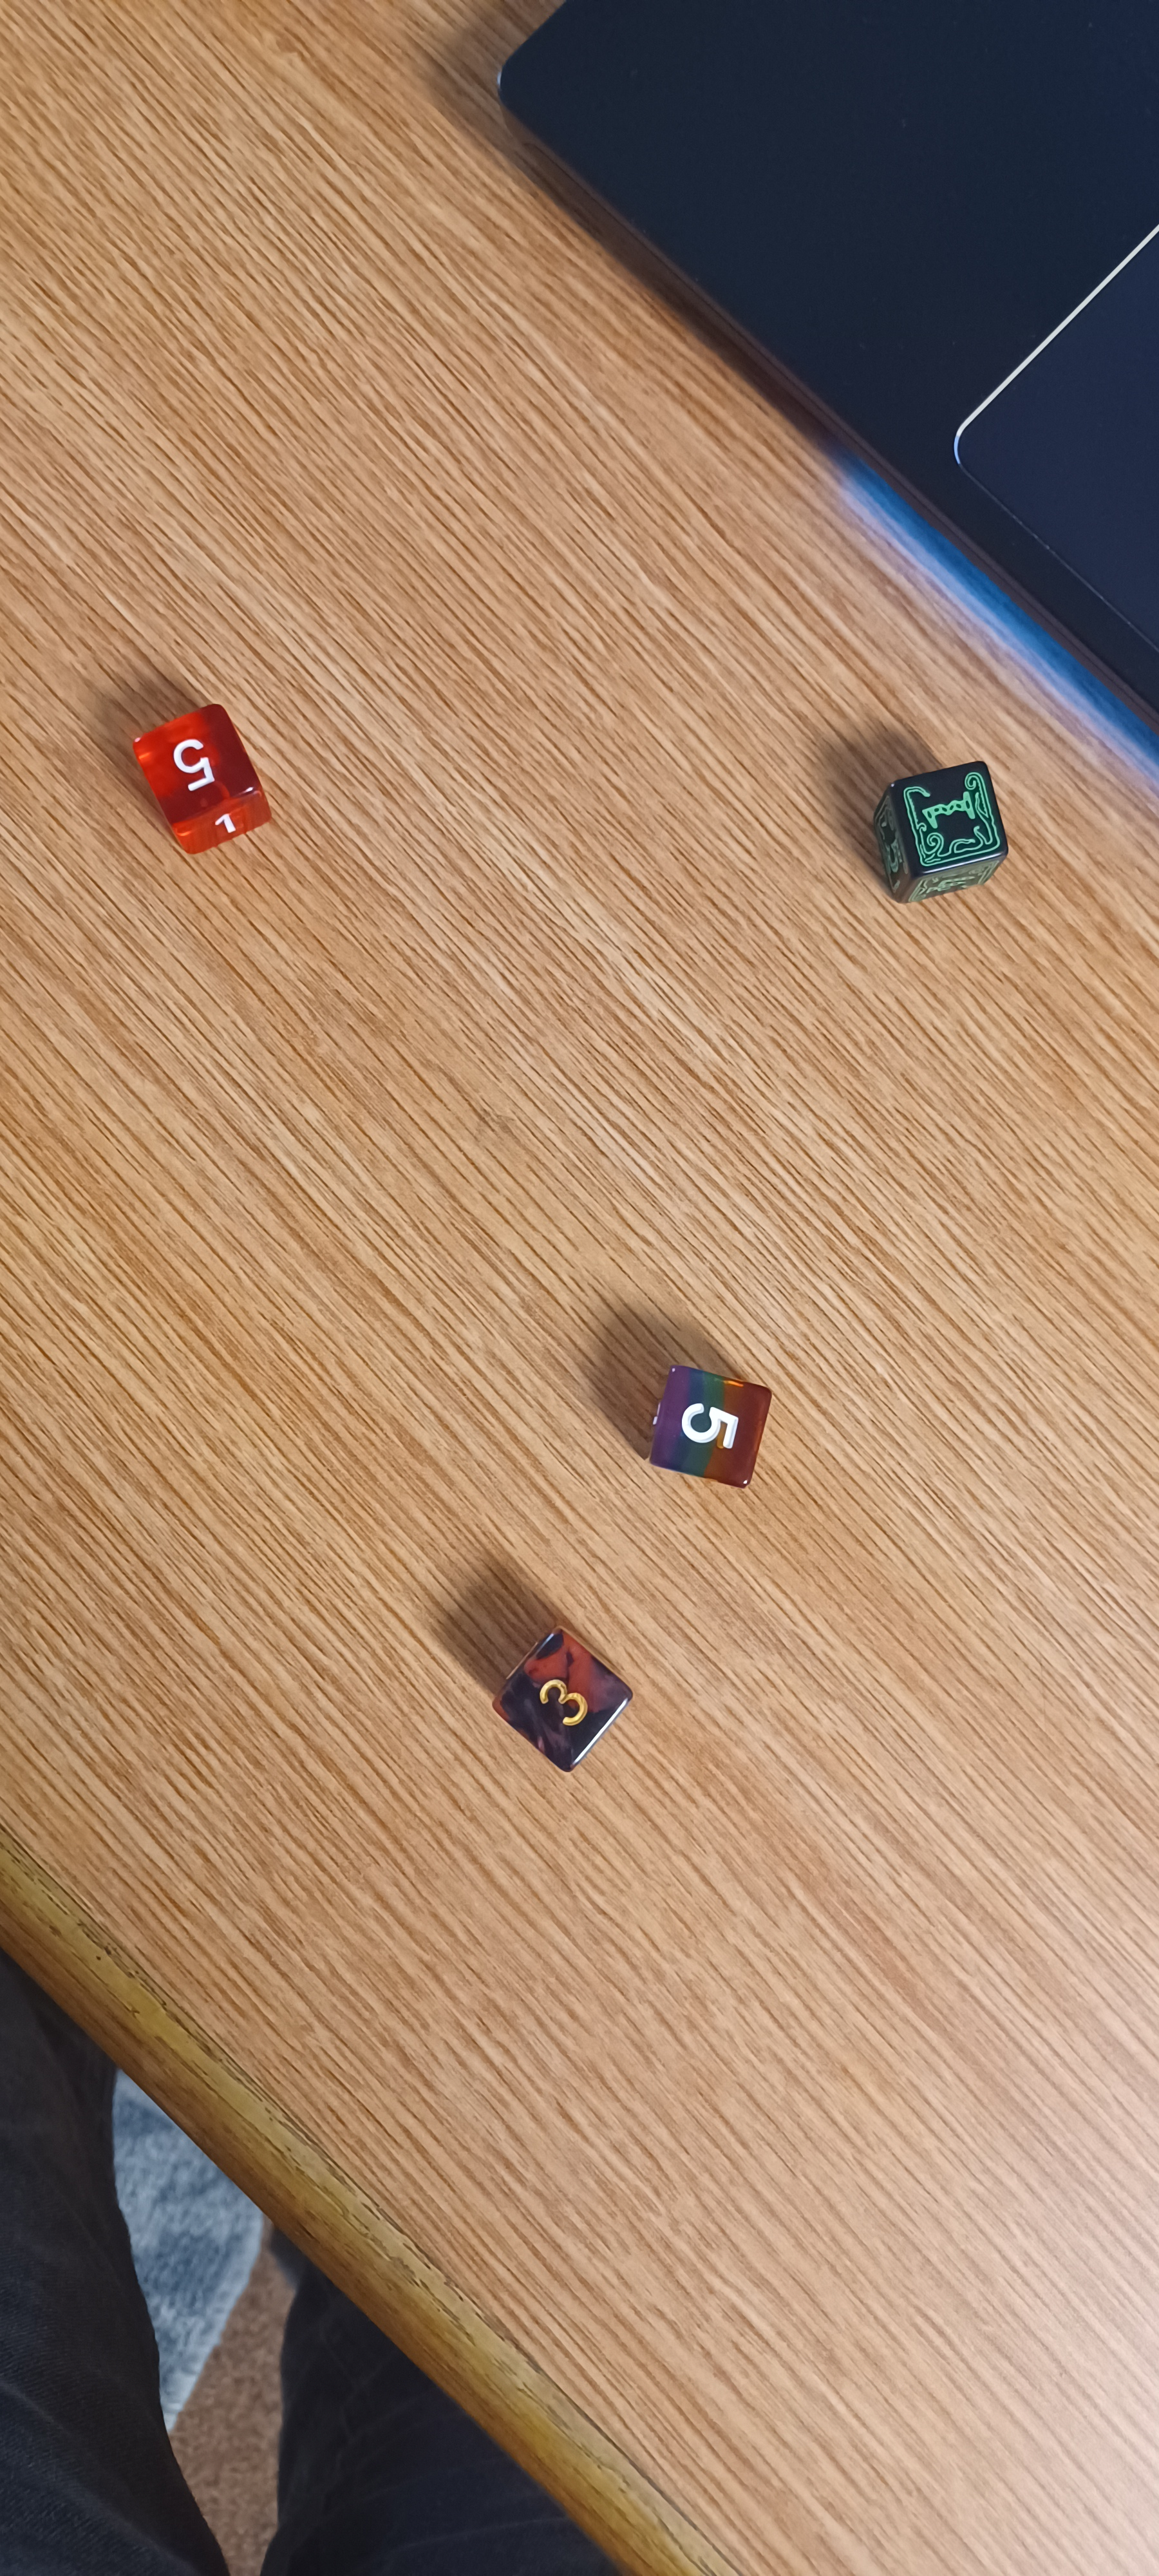five: (98, 677, 315, 864), (611, 1327, 801, 1523)
one: (847, 744, 1039, 907)
three: (470, 1602, 665, 1786)
